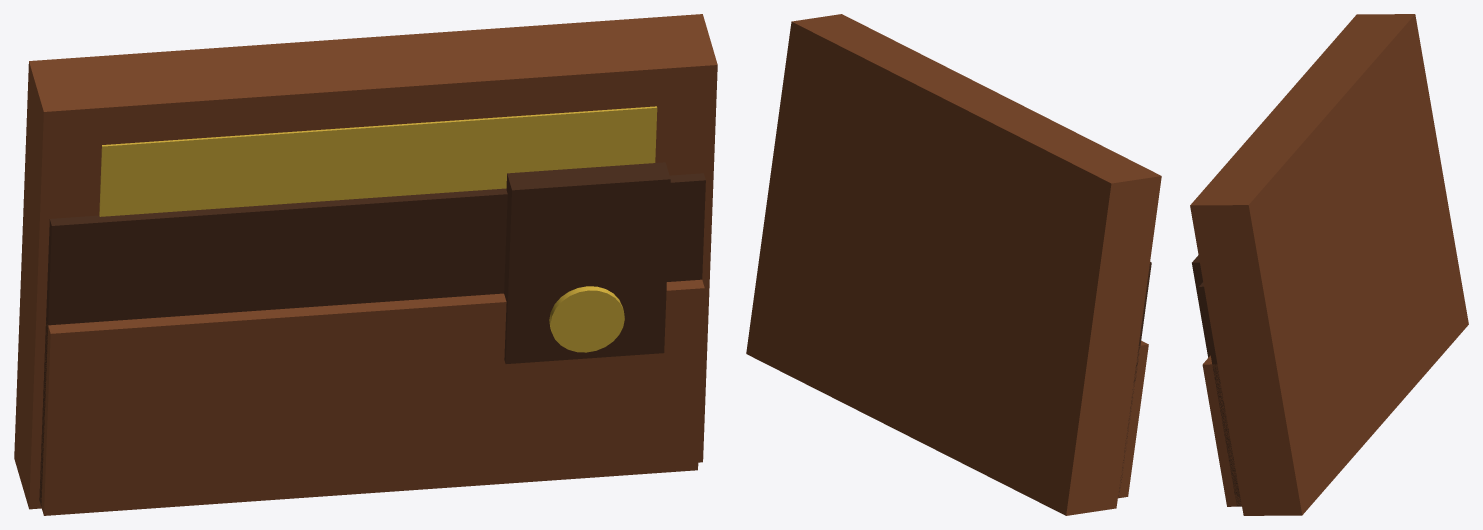
File: leather_wallet.glb
3 views of the same model, side by side, from view 1: azimuth 30°, elevation 25°; view 2: azimuth 150°, elevation 25°; view 3: azimuth 270°, elevation 25° (orthographic). The views are drawn at different scales.
Size of the model in its own units: 1.39 by 0.9797 by 0.7911.
